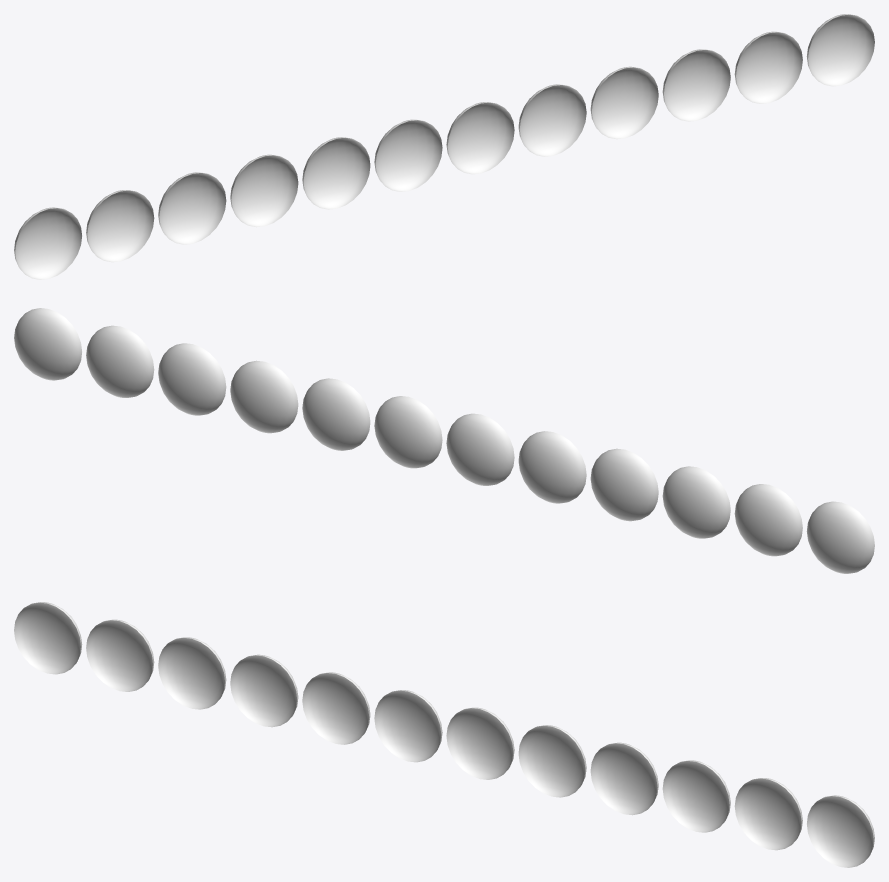
3 renders of one model, top to bottom at view 1: azimuth 30°, elevation 25°; view 2: azimuth 150°, elevation 25°; view 3: azimuth 330°, elevation 25°, orthographic.
Visible parts, largest first — view 1: Sphere005, Sphere007, Sphere010, Sphere003, Sphere001, Sphere004, Sphere002, Sphere009, Sphere012, Sphere008, Sphere011, Sphere006; view 2: Sphere008, Sphere003, Sphere006, Sphere010, Sphere009, Sphere012, Sphere001, Sphere004, Sphere011, Sphere005, Sphere002, Sphere007; view 3: Sphere008, Sphere003, Sphere006, Sphere010, Sphere009, Sphere012, Sphere001, Sphere004, Sphere011, Sphere005, Sphere002, Sphere007.
Boxes of the visible parts, <box> form: Sphere005: <box>518,84,586,156</box>; Sphere007: <box>374,119,442,191</box>; Sphere010: <box>158,172,226,244</box>; Sphere003: <box>662,49,730,121</box>; Sphere001: <box>806,14,874,86</box>; Sphere004: <box>590,66,658,139</box>; Sphere002: <box>734,31,802,103</box>; Sphere009: <box>230,154,298,227</box>; Sphere012: <box>14,207,81,279</box>; Sphere008: <box>302,137,370,209</box>; Sphere011: <box>86,190,154,262</box>; Sphere006: <box>446,102,514,174</box>; Sphere008: <box>518,431,586,503</box>; Sphere003: <box>158,343,226,415</box>; Sphere006: <box>374,396,442,468</box>; Sphere010: <box>662,466,730,538</box>; Sphere009: <box>590,448,658,521</box>; Sphere012: <box>806,501,874,573</box>; Sphere001: <box>14,308,81,380</box>; Sphere004: <box>230,360,298,433</box>; Sphere011: <box>734,484,802,556</box>; Sphere005: <box>302,378,370,450</box>; Sphere002: <box>86,325,154,397</box>; Sphere007: <box>446,413,514,485</box>; Sphere008: <box>302,672,370,744</box>; Sphere003: <box>662,760,730,832</box>; Sphere006: <box>446,707,514,779</box>; Sphere010: <box>158,637,226,709</box>; Sphere009: <box>230,654,298,727</box>; Sphere012: <box>14,602,82,674</box>; Sphere001: <box>807,795,874,867</box>; Sphere004: <box>590,742,658,815</box>; Sphere011: <box>86,619,154,691</box>; Sphere005: <box>518,725,586,797</box>; Sphere002: <box>734,778,802,850</box>; Sphere007: <box>374,690,442,762</box>.
Size of the model in its own units: 3.61 by 0.2814 by 0.0666.
1 material, 1 textured.
